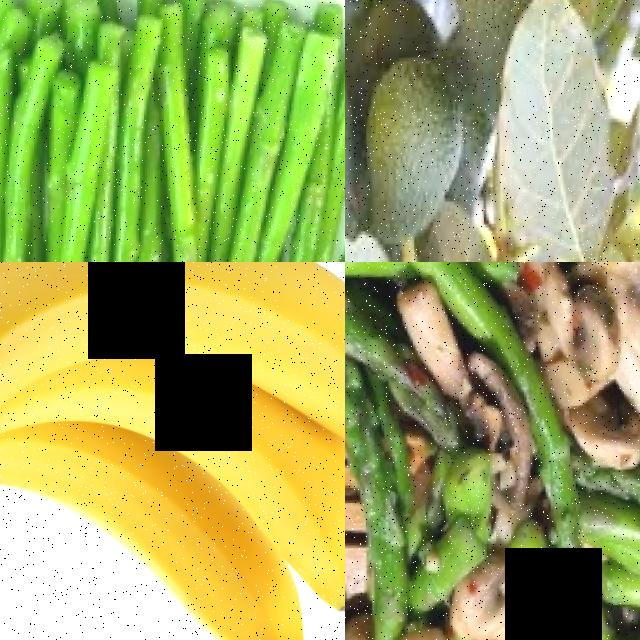asparagus: (139, 8, 225, 262), (501, 397, 590, 640), (210, 98, 324, 262), (345, 349, 411, 631), (13, 106, 103, 262), (92, 110, 171, 262), (576, 501, 640, 634)
avocado: (346, 44, 466, 262), (441, 0, 562, 138)
banana: (0, 262, 345, 640)
